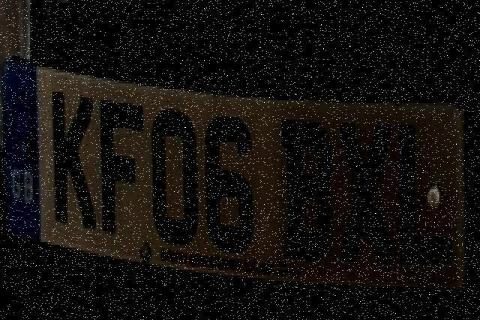LicensePlate: (0, 55, 470, 299)
